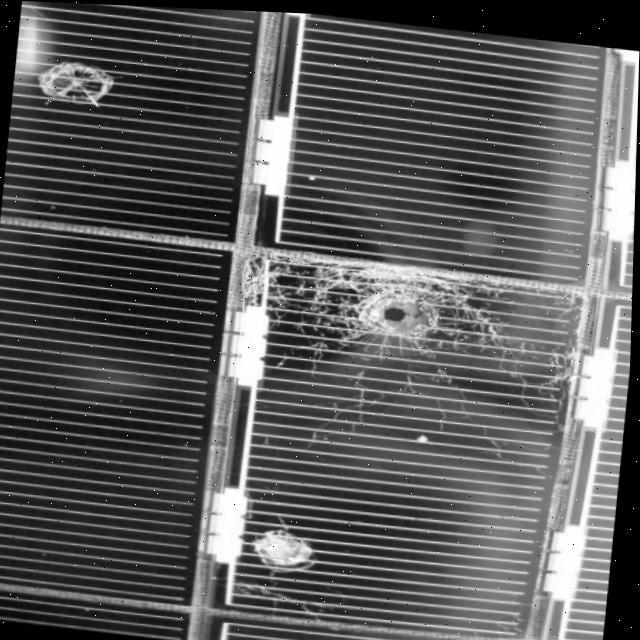Anomaly Solar Panel: (0, 1, 639, 640)
Structural Damage: (316, 252, 484, 369), (34, 48, 125, 108), (251, 514, 331, 582)
